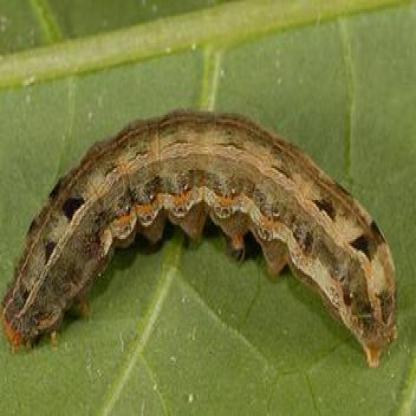armyworm: (0, 90, 406, 389)
